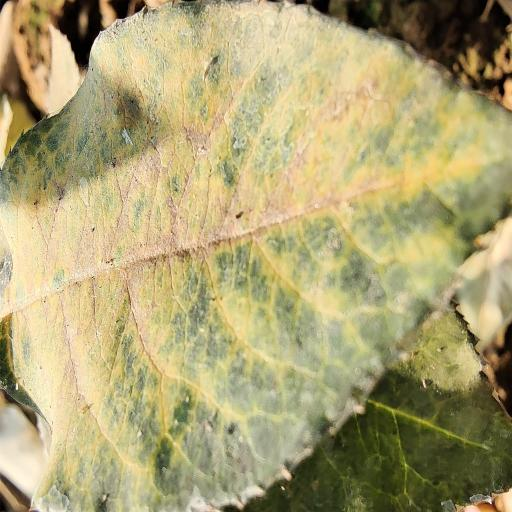red_mite: (0, 1, 512, 511)
